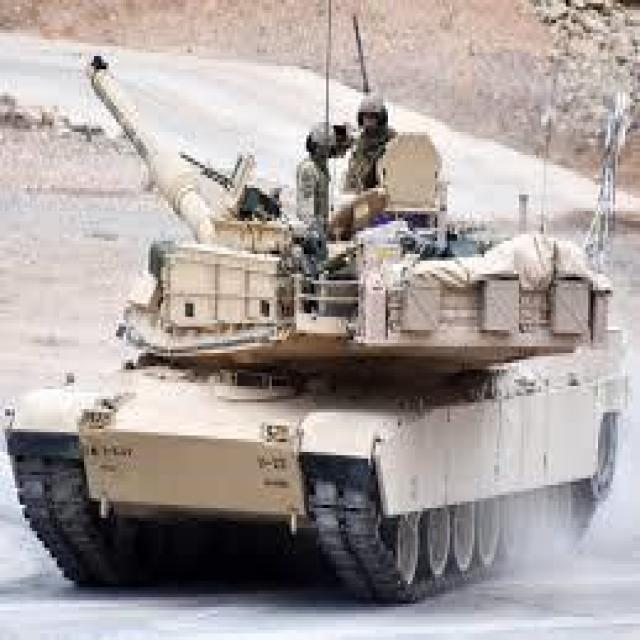Tanks: (15, 10, 625, 623)
